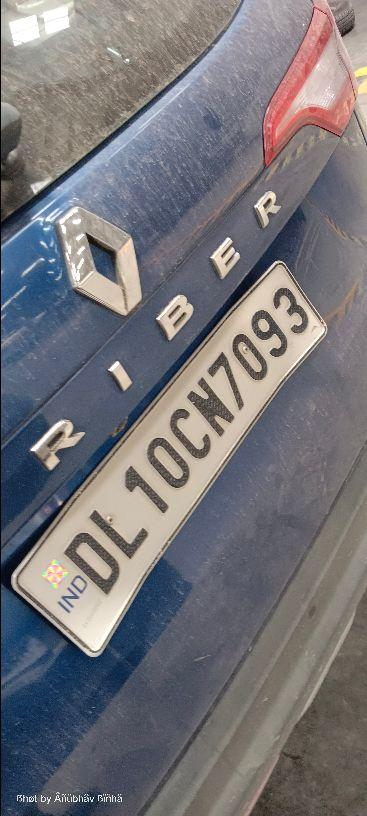license_plate: (9, 257, 328, 657)
